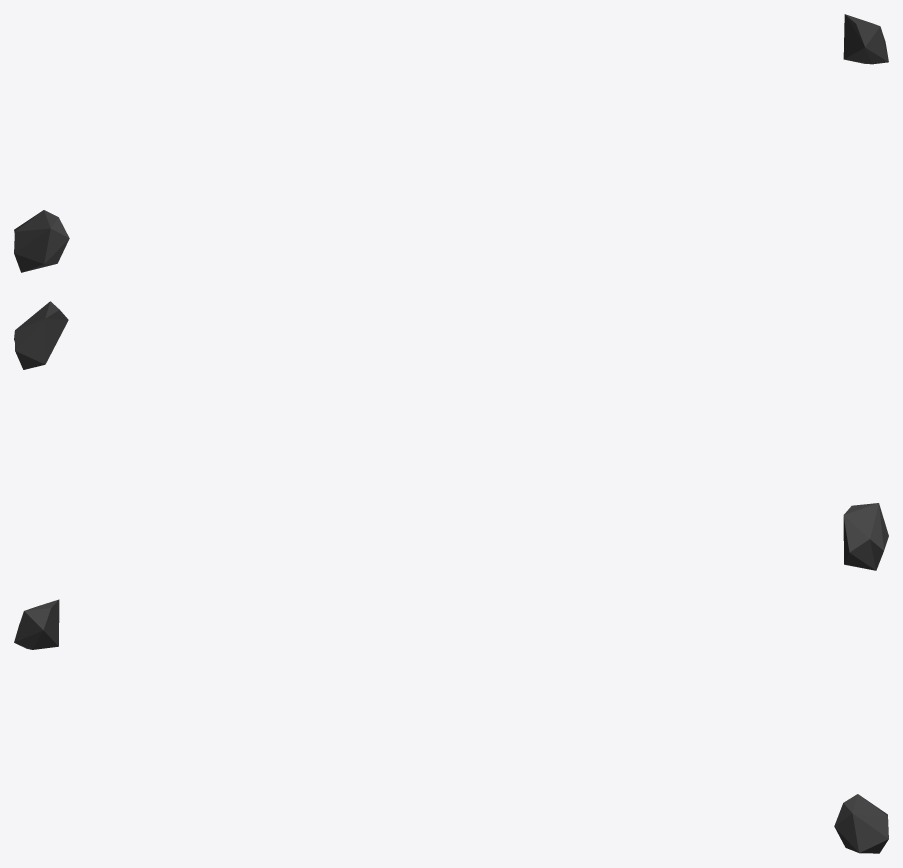
File: Metatarsal_first.glb
3 views of the same model, one above another, from view 1: azimuth 30°, elevation 25°; view 2: azimuth 150°, elevation 25°; view 3: azimuth 330°, elevation 25° (orthographic).
Parts seen in each view (by area): view 1: Metatarsal_first; view 2: Metatarsal_first; view 3: Metatarsal_first.
Part boxes in pixels (x1,y1,x2,y2): Metatarsal_first: [14, 14, 888, 272]; Metatarsal_first: [14, 301, 888, 570]; Metatarsal_first: [14, 599, 888, 853].
Bounding box in the file's own units: 0.00414 × 0.000253 × 0.000293.
1 material, 1 textured.
